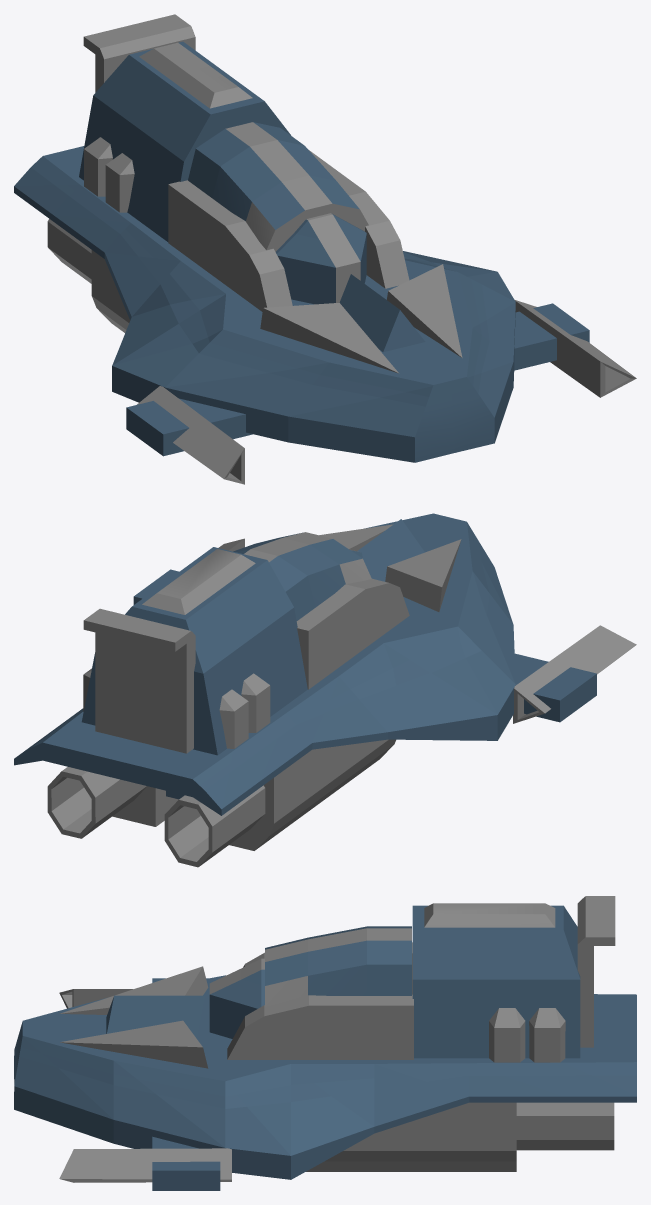
File: Heleur_HVY.fbx
The picture shows the model from 3 angles, top to bottom: view 1: azimuth 30°, elevation 25°; view 2: azimuth 150°, elevation 25°; view 3: azimuth 270°, elevation 25°; orthographic projection. The views are drawn at different scales.
Parts seen in each view (by area): view 1: HeavySpeeder_1; view 2: HeavySpeeder_1; view 3: HeavySpeeder_1.
Part boxes in pixels (bbox=[...]): HeavySpeeder_1: bbox=[14, 14, 636, 484]; HeavySpeeder_1: bbox=[14, 513, 636, 867]; HeavySpeeder_1: bbox=[14, 896, 636, 1190].
Bounding box in the file's own units: 9.37 × 5.23 × 12.83.
